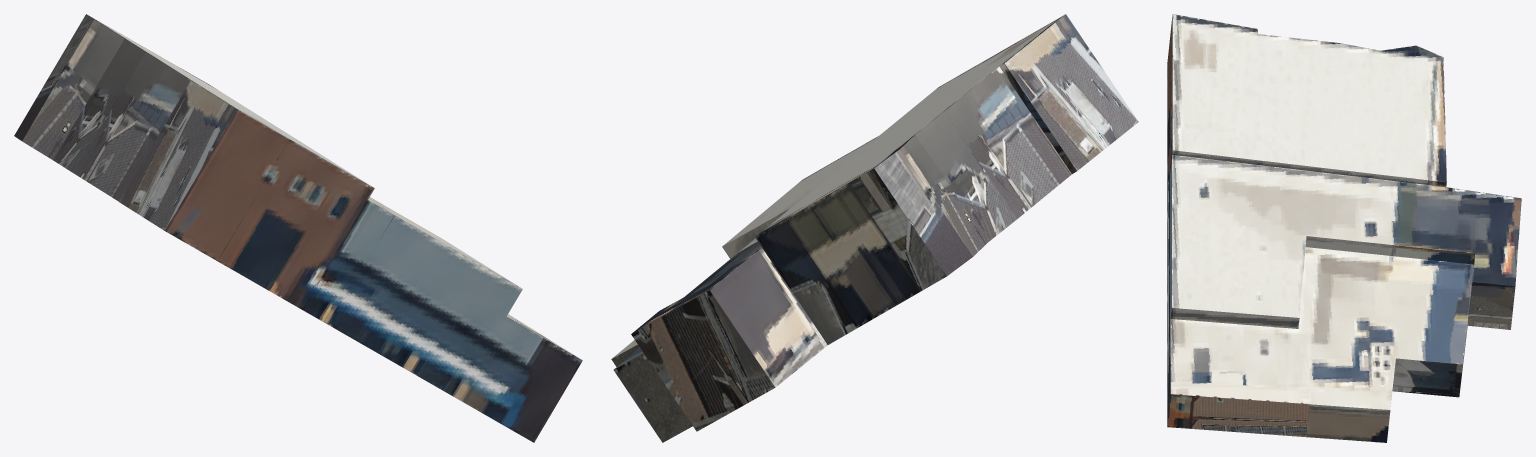
3 views of the same model, side by side, from view 1: azimuth 30°, elevation 25°; view 2: azimuth 150°, elevation 25°; view 3: azimuth 270°, elevation 25° (orthographic). The views are drawn at different scales.
Visible parts, largest first — view 1: BAG_0599100000760489 (×5); view 2: BAG_0599100000760489 (×5); view 3: BAG_0599100000760489 (×5).
Boxes of the visible parts, x1=… form: BAG_0599100000760489 (×5): x1=14, y1=14, x2=582, y2=442; BAG_0599100000760489 (×5): x1=611, y1=14, x2=1138, y2=442; BAG_0599100000760489 (×5): x1=1167, y1=14, x2=1521, y2=442.
Bounding box in the file's own units: 26.87 × 25.56 × 25.73.
Materials: 1 (1 with a texture image).
